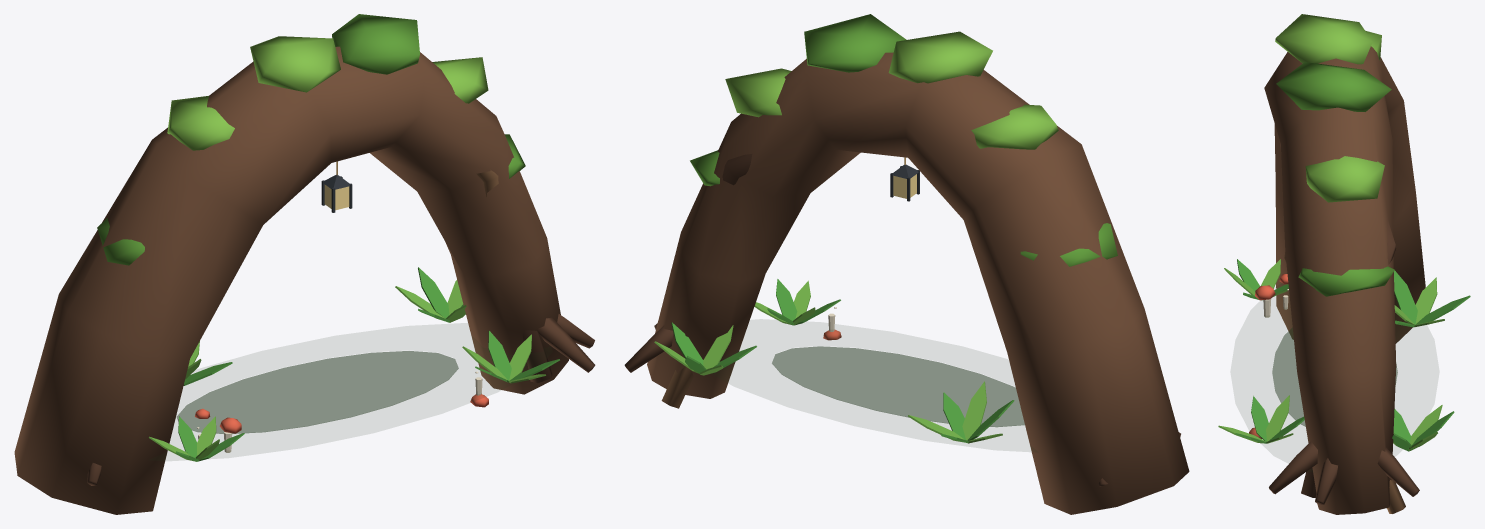
Rendered from great_root.glb.
The picture shows the model from 3 angles, left to right: view 1: azimuth 30°, elevation 25°; view 2: azimuth 150°, elevation 25°; view 3: azimuth 270°, elevation 25°; orthographic projection. The views are drawn at different scales.
Parts seen in each view (by area): view 1: great_root; view 2: great_root; view 3: great_root.
Part boxes in pixels (<box>): great_root: <box>14,14,595,514</box>; great_root: <box>624,14,1189,514</box>; great_root: <box>1218,14,1470,514</box>.
Bounding box in the file's own units: 4.85 × 3.49 × 2.05.
